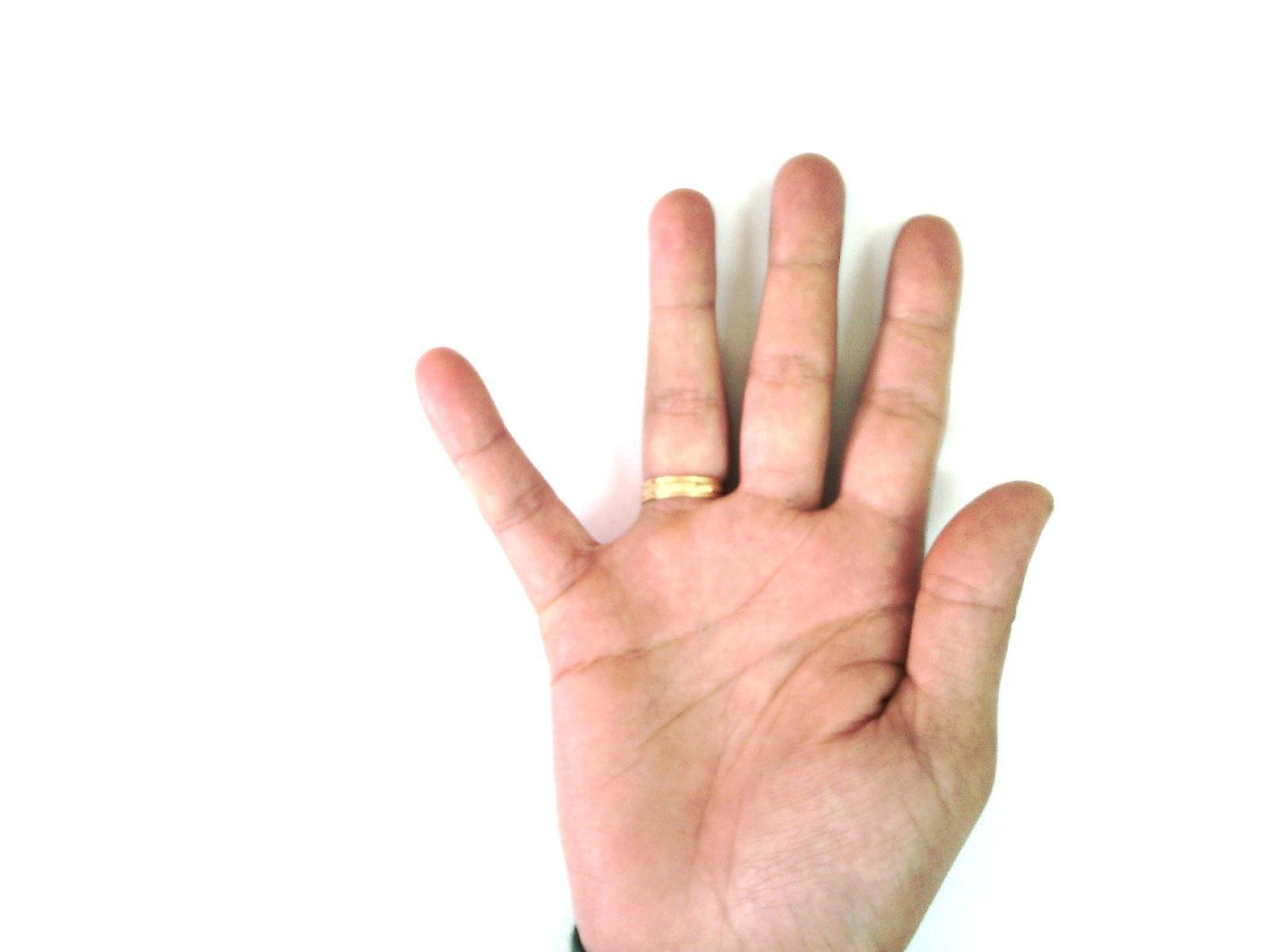open_palm: (412, 152, 1056, 951)
